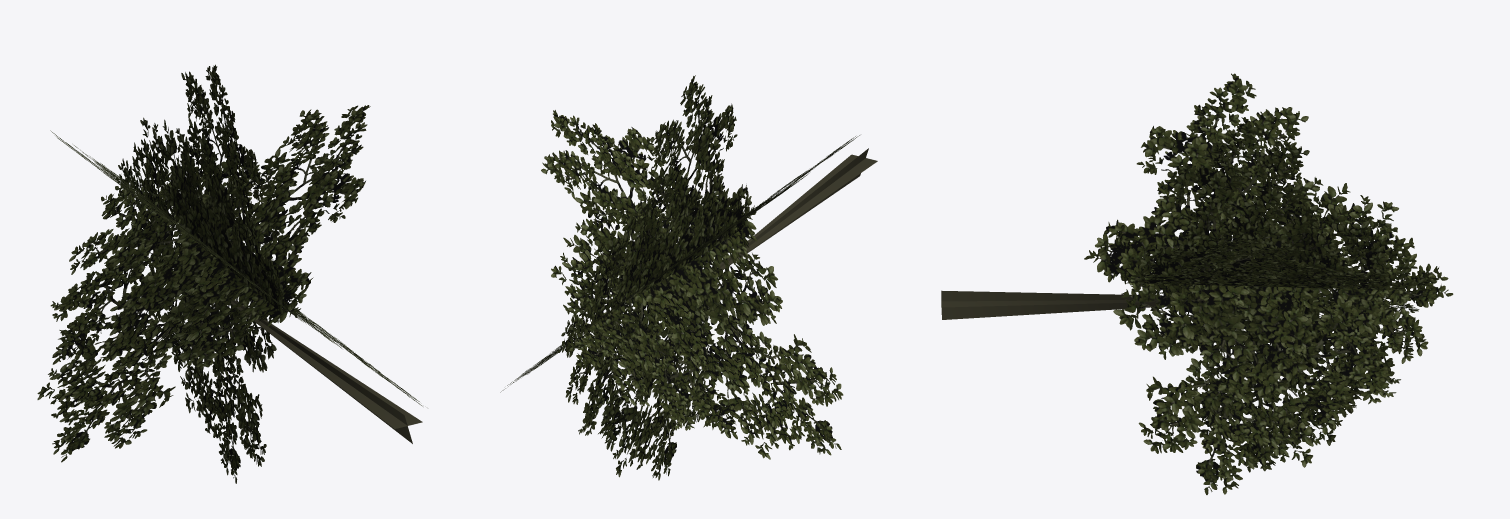
The model's file is Trees_02_d_LOD_02.fbx.
3 renders of one model, left to right at view 1: azimuth 30°, elevation 25°; view 2: azimuth 150°, elevation 25°; view 3: azimuth 270°, elevation 25°, orthographic. The views are drawn at different scales.
Visible parts, largest first — view 1: MEP_Leafs_02_d_LOD_02; view 2: MEP_Leafs_02_d_LOD_02; view 3: MEP_Leafs_02_d_LOD_02.
Part boxes in pixels (x1=…): MEP_Leafs_02_d_LOD_02: x1=37, y1=64, x2=422, y2=483; MEP_Leafs_02_d_LOD_02: x1=500, y1=75, x2=877, y2=480; MEP_Leafs_02_d_LOD_02: x1=941, y1=73, x2=1453, y2=494.
Size of the model in its own units: 13.78 by 15.55 by 19.6.
